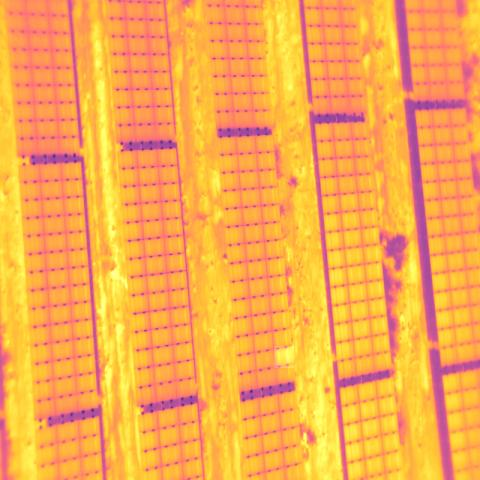fault: (274, 346, 294, 368)
